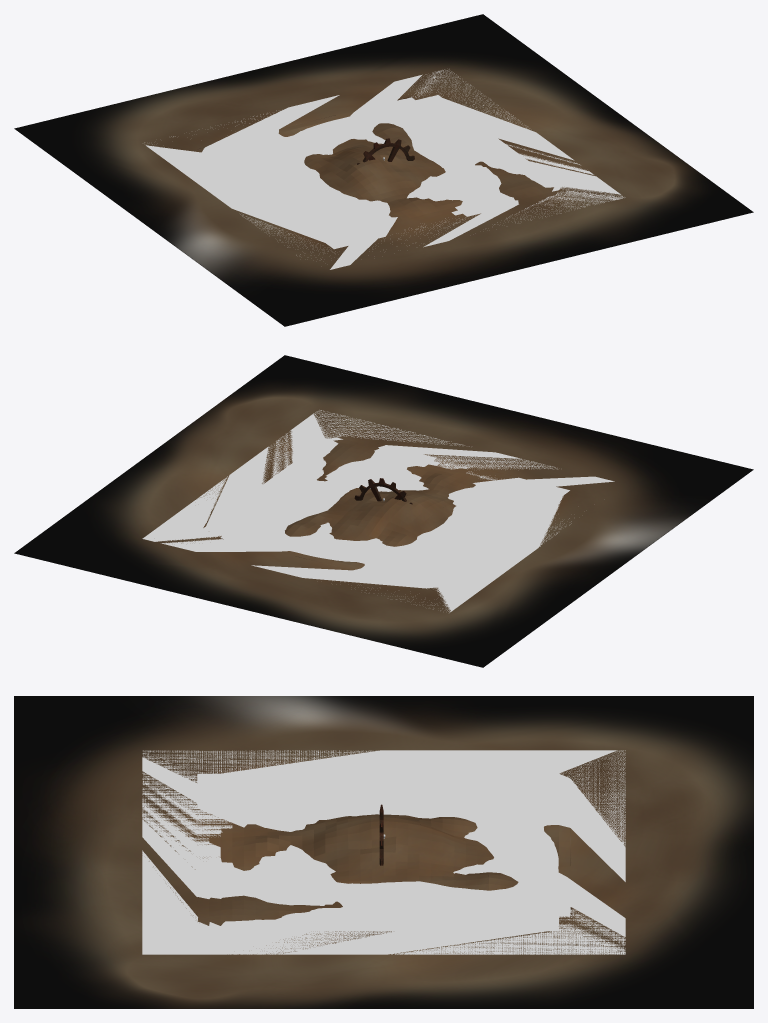
File: wasteland.fbx
3 renders of one model, top to bottom at view 1: azimuth 30°, elevation 25°; view 2: azimuth 150°, elevation 25°; view 3: azimuth 270°, elevation 25°, orthographic. The views are drawn at different scales.
Visible parts, largest first — view 1: Landscape, Plane, Gear; view 2: Landscape, Plane, Gear; view 3: Landscape, Plane.
Boxes of the visible parts, <box> form: Landscape: <box>14,14,753,326</box>; Plane: <box>144,69,625,269</box>; Gear: <box>357,138,414,164</box>; Landscape: <box>14,355,753,667</box>; Plane: <box>142,410,614,612</box>; Gear: <box>354,478,412,504</box>; Landscape: <box>14,696,753,1008</box>; Plane: <box>142,750,625,954</box>.
Size of the model in its own units: 33497 by 4338 by 33497.
